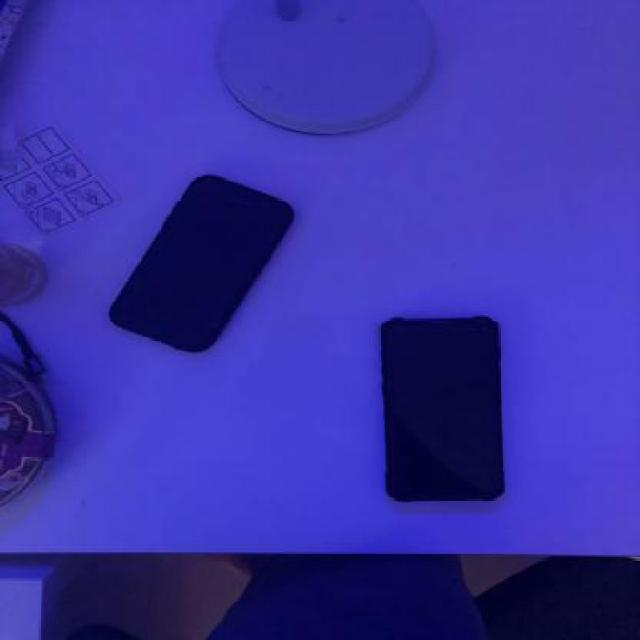phone: (112, 171, 301, 354), (378, 318, 509, 498)
